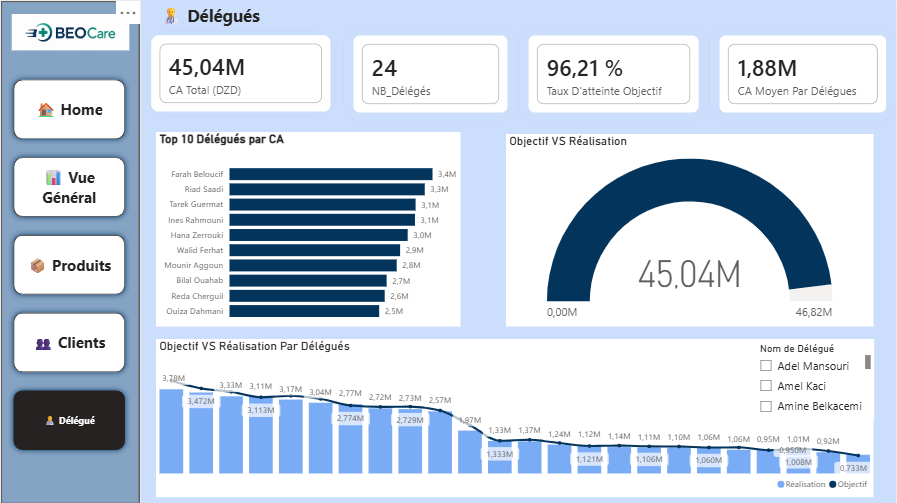

The dashboard page shown, as its layout file describes it:
{"tool":"powerbi","page":{"name":"👨⚕️ Délégué","canvas":[1280,720],"ordinal":4},"visuals":[{"type":"barChart","title":"Top 10 Délégués par CA","fields":{"Category":["Dim_Delegues.delegue_medical"],"Y":["Sum(Dim_Delegues.CA)"]},"box":[223.3,188.3,435,278.3],"z":0},{"type":"lineClusteredColumnComboChart","title":"Objectif VS Réalisation Par Délégués","fields":{"Category":["Dim_Delegues.delegue_medical"],"Y":["Sum(Fait_Objectifs.realise_dzd)"],"Y2":["Sum(Fait_Objectifs.objectif_dzd)"]},"box":[223.2,483.8,1025.3,226.1],"z":1000},{"type":"gauge","title":"Objectif VS Réalisation","fields":{"MaxValue":["Sum(Fait_Objectifs.objectif_dzd)"],"Y":["Sum(Fait_Objectifs.realise_dzd)"]},"box":[723.3,191.7,525,275],"z":2000},{"type":"actionButton","box":[0,0,201,721.2],"z":3000},{"type":"textbox","box":[223.3,0,166.7,48.3],"z":4000},{"type":"cardVisual","fields":{"Data":["Dim_Delegues.NB_Délégés"]},"box":[489.4,35,250,140],"z":5000,"group":"g1"},{"type":"slicer","fields":{"Values":["Fait_Objectifs.Nom_Delegue"]},"box":[1072.8,483.8,175.7,113.8],"z":5000},{"type":"image","box":[5.8,20.2,190,51.7],"z":6000},{"type":"cardVisual","fields":{"Data":["Fait_Objectifs.Taux D'atteinte Objectif"]},"box":[739.4,35,273.3,140],"z":6000,"group":"g1"},{"type":"cardVisual","fields":{"Data":["Dim_Delegues.CA Moyen Par Délégues"]},"box":[1012.7,35,268.3,140],"z":7000,"group":"g1"},{"type":"pageNavigator","box":[11.7,105,175,545],"z":7000},{"type":"group","id":"g1","title":"Groupe 1","box":[210,35,1070,140],"z":8000},{"type":"cardVisual","title":"CA Total (DZD)","fields":{"Data":["Sum(Fait_Ventes.montant_net_dzd)"]},"box":[210,43.7,268.9,122],"z":9000,"group":"g1"}]}

Visuals, with their boxes on the page's 1280x720 design canvas (x1, y1, x2, y2). These are canvas units, not pixel positions in the 897x503 screenshot, which may show the page scaled, cropped or inside an application window:
"Top 10 Délégués par CA" barChart: 223, 188, 658, 467
"Objectif VS Réalisation Par Délégués" lineClusteredColumnComboChart: 223, 484, 1248, 710
"Objectif VS Réalisation" gauge: 723, 192, 1248, 467
actionButton: 0, 0, 201, 721
textbox: 223, 0, 390, 48
cardVisual - Dim_Delegues.NB_Délégés: 489, 35, 739, 175
slicer - Fait_Objectifs.Nom_Delegue: 1073, 484, 1248, 598
image: 6, 20, 196, 72
cardVisual - Fait_Objectifs.Taux D'atteinte Objectif: 739, 35, 1013, 175
cardVisual - Dim_Delegues.CA Moyen Par Délégues: 1013, 35, 1281, 175
pageNavigator: 12, 105, 187, 650
"Groupe 1" group: 210, 35, 1280, 175
"CA Total (DZD)" cardVisual: 210, 44, 479, 166
